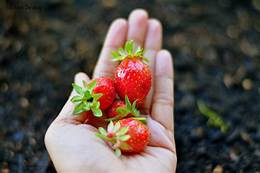Fresa: (112, 52, 154, 111), (106, 115, 152, 158), (82, 73, 119, 113)
